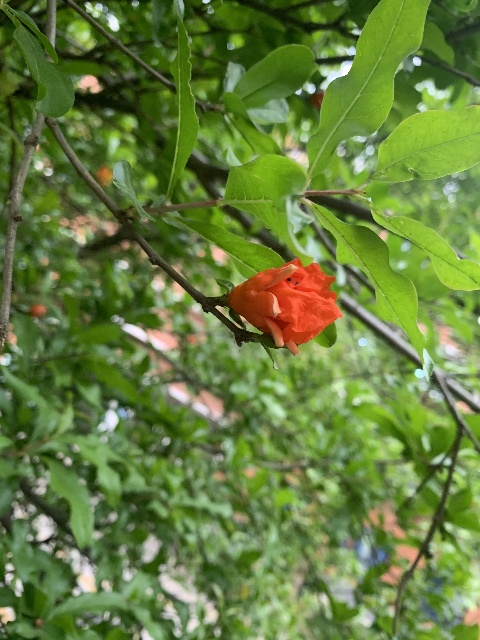flower: (226, 257, 343, 355)
